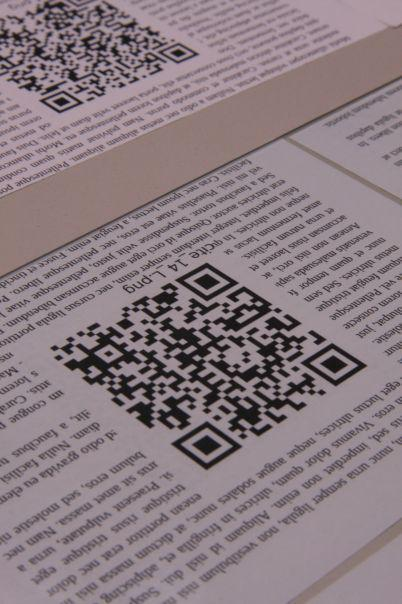Finder pattern: (298, 334, 372, 391), (174, 421, 249, 472), (176, 262, 241, 302), (41, 89, 85, 117), (155, 44, 203, 66)
